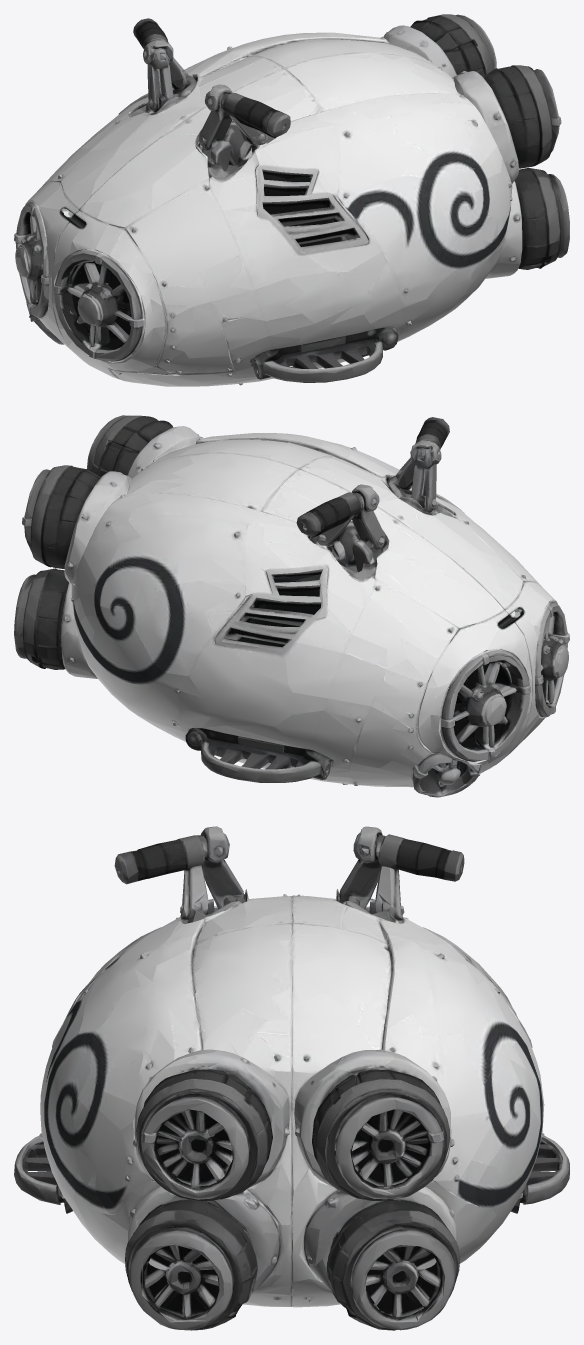
Rendered from spiral-pod.glb.
The picture shows the model from 3 angles, top to bottom: view 1: azimuth 30°, elevation 25°; view 2: azimuth 150°, elevation 25°; view 3: azimuth 270°, elevation 25°; orthographic projection. The views are drawn at different scales.
Parts seen in each view (by area): view 1: output_unwrapped; view 2: output_unwrapped; view 3: output_unwrapped.
Part boxes in pixels (bbox=[...]): output_unwrapped: bbox=[14, 14, 569, 386]; output_unwrapped: bbox=[14, 415, 569, 797]; output_unwrapped: bbox=[14, 826, 569, 1330].
Size of the model in its own units: 1.9 by 1.15 by 1.52.
1 material, 1 textured.
